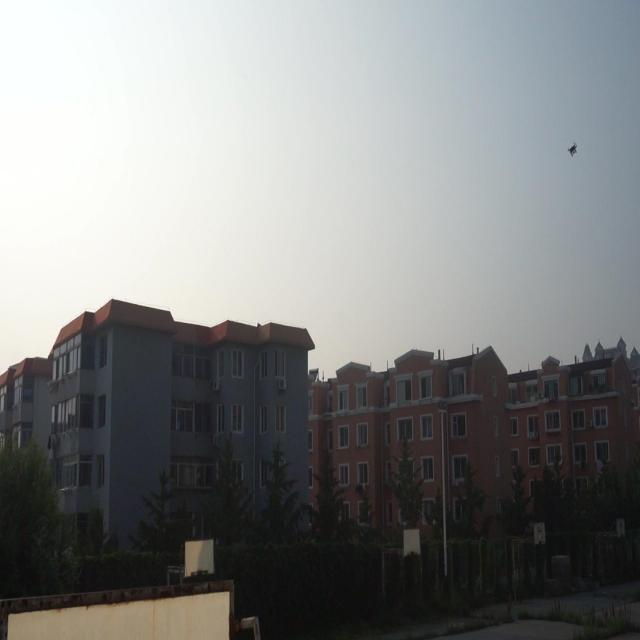UAV: (567, 142, 577, 157)
